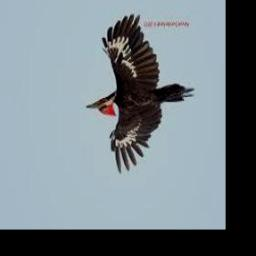Woodpecker: (87, 16, 195, 175)
